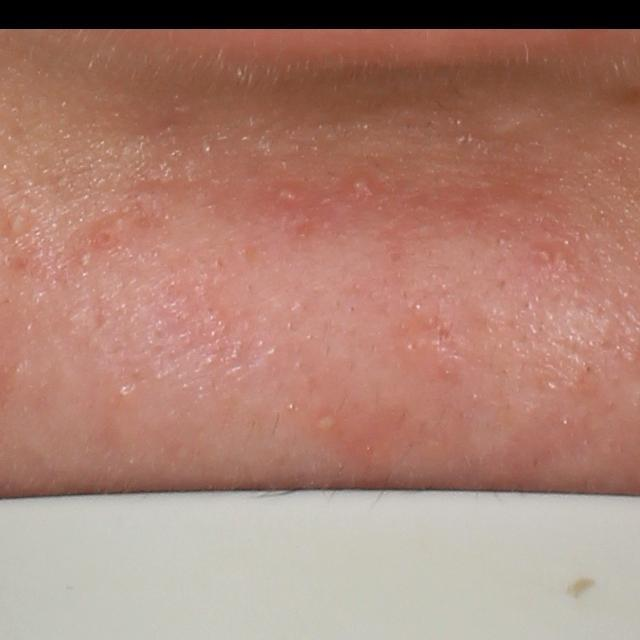comedo: (80, 251, 91, 268)
hypertrophic_scar: (484, 109, 538, 144)
pustule: (309, 407, 345, 435), (274, 181, 306, 212), (348, 173, 377, 204), (532, 241, 555, 269)
